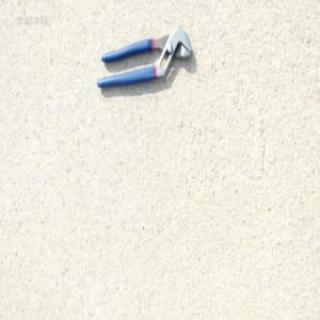Pliertrack_idkeyframe: (95, 25, 192, 89)
